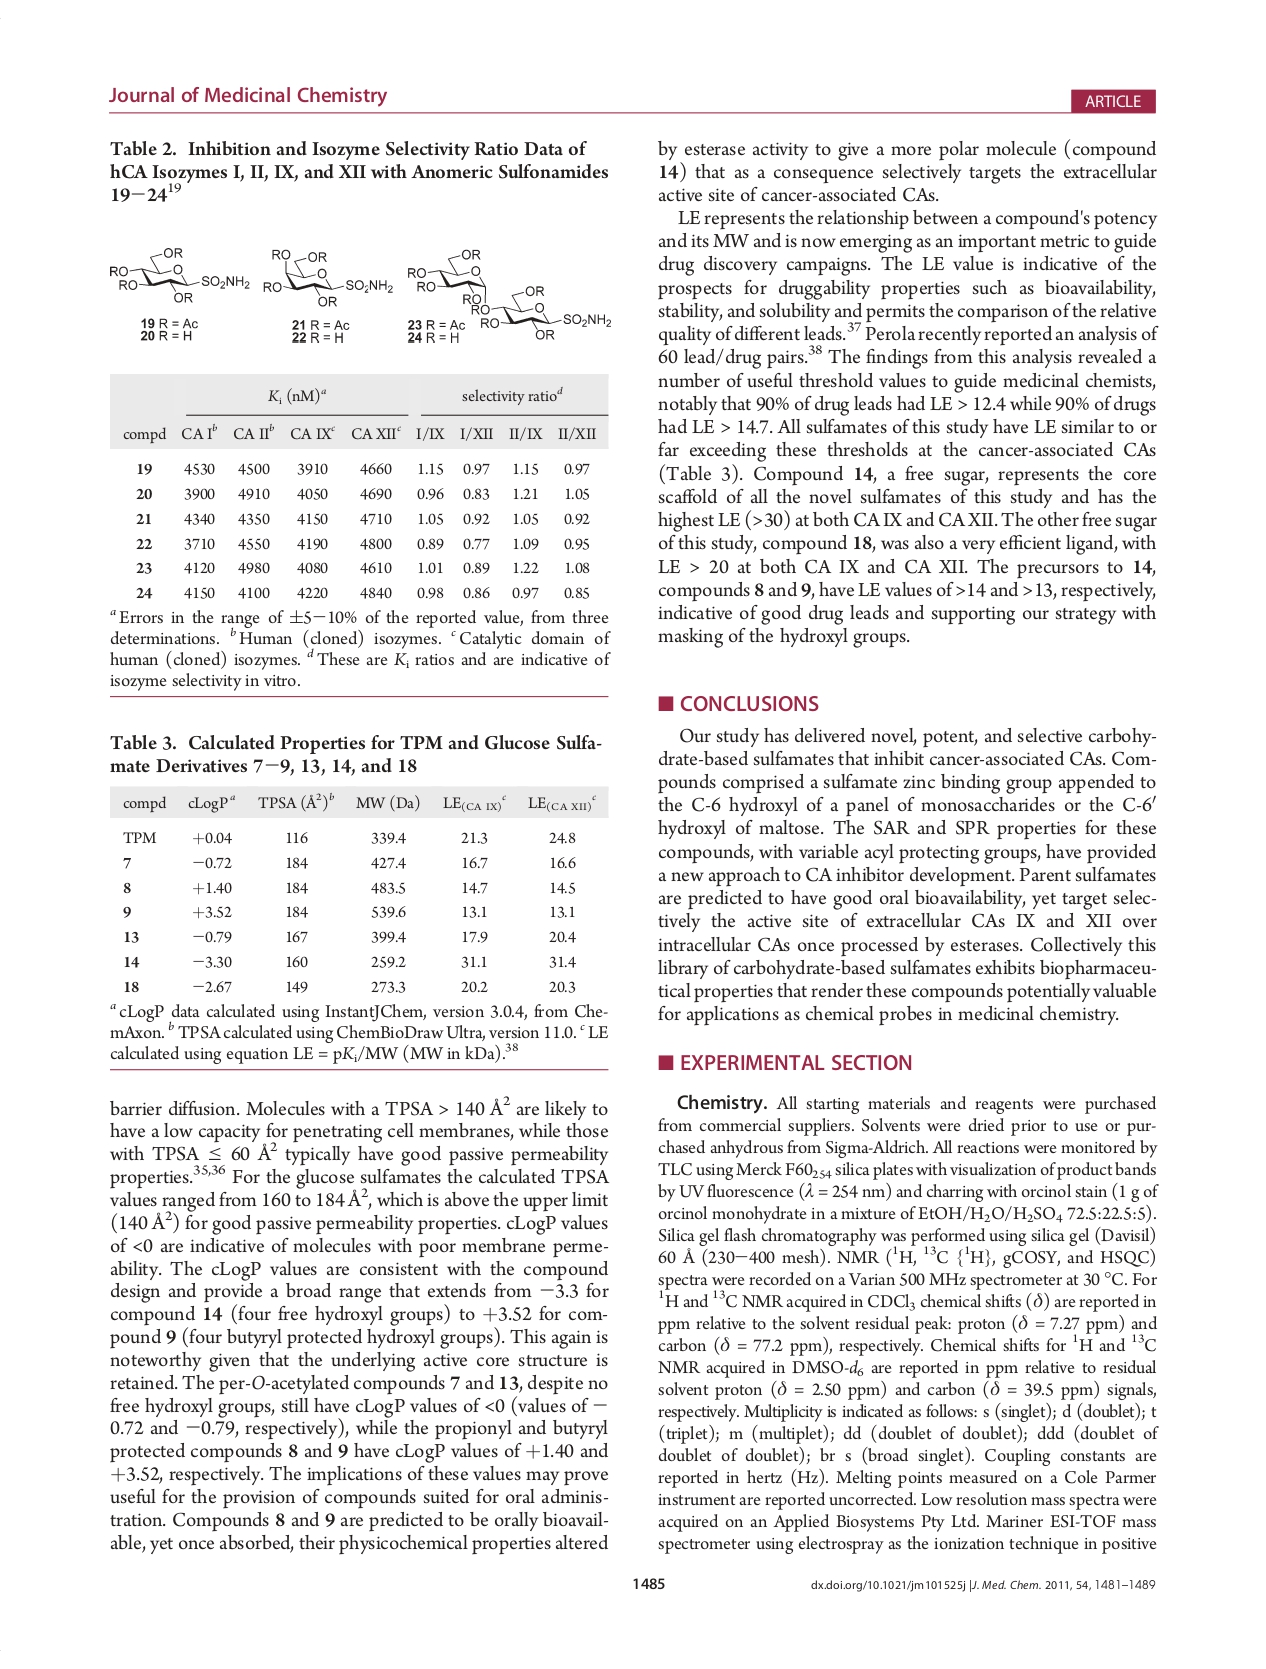exist_molecular: (406, 245, 614, 344), (104, 243, 251, 306), (261, 246, 398, 310)
